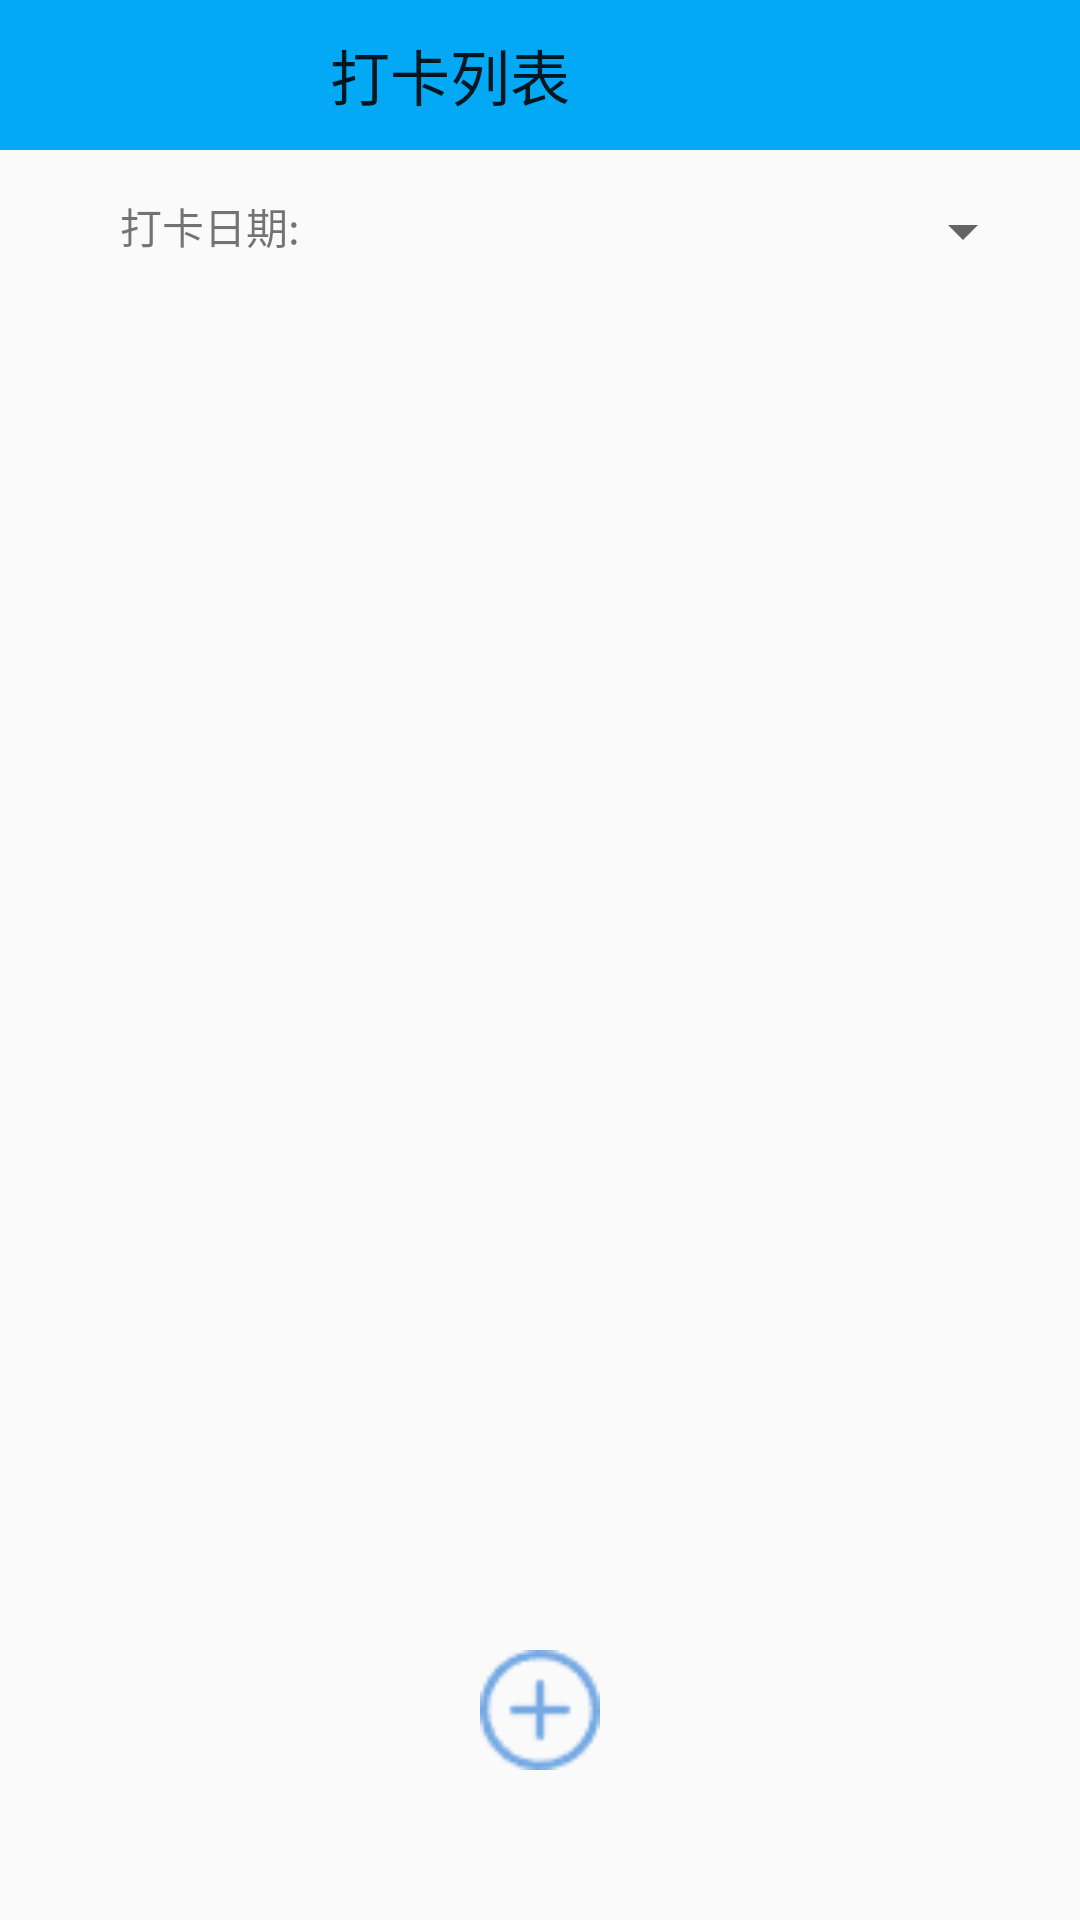

Where to tap for icons on this 1080 × 1920 app screen, as point (x, y):
add: point (540, 1710)
